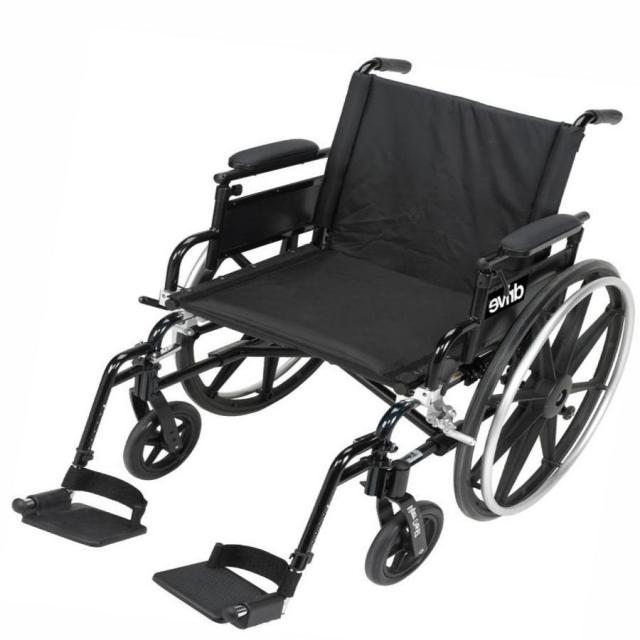wheelchair: (9, 51, 640, 640)
